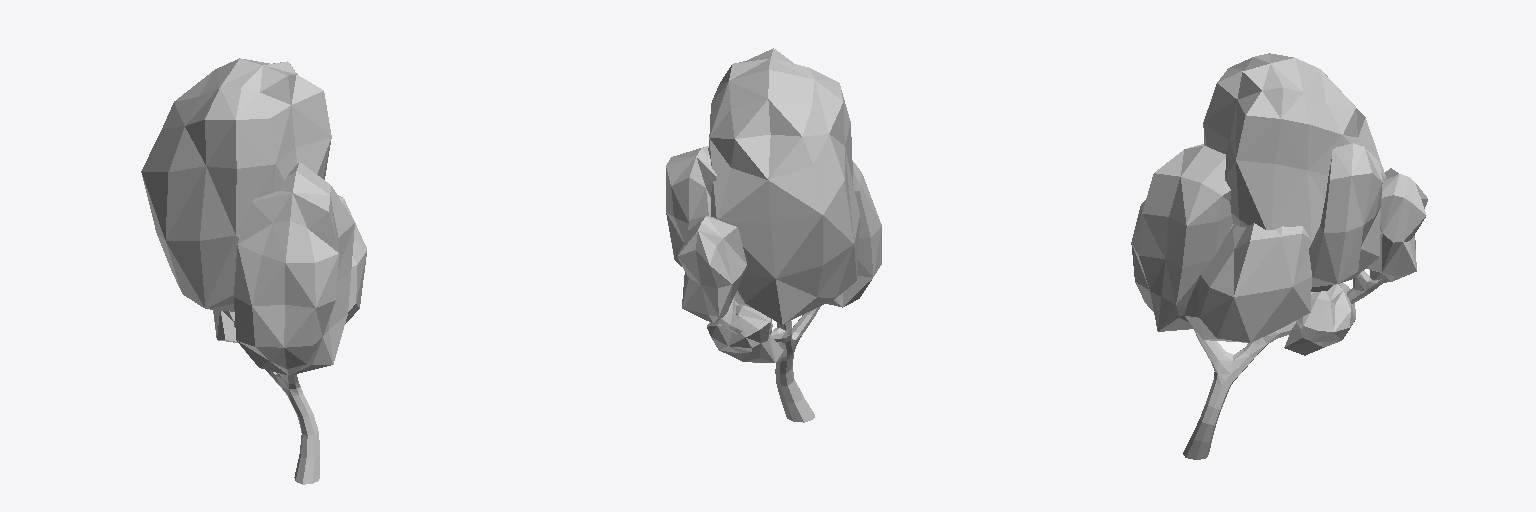
Rendered from birch.obj.
3 views of the same model, side by side, from view 1: azimuth 30°, elevation 25°; view 2: azimuth 150°, elevation 25°; view 3: azimuth 270°, elevation 25° (orthographic).
Visible parts, largest first — view 1: BirchTree_1_Cube; view 2: BirchTree_1_Cube; view 3: BirchTree_1_Cube.
Boxes of the visible parts, x1,y1,x2,y2 form: BirchTree_1_Cube: [141, 58, 366, 484]; BirchTree_1_Cube: [666, 48, 881, 422]; BirchTree_1_Cube: [1131, 53, 1427, 459].
Size of the model in its own units: 1.7 by 3.57 by 2.48.